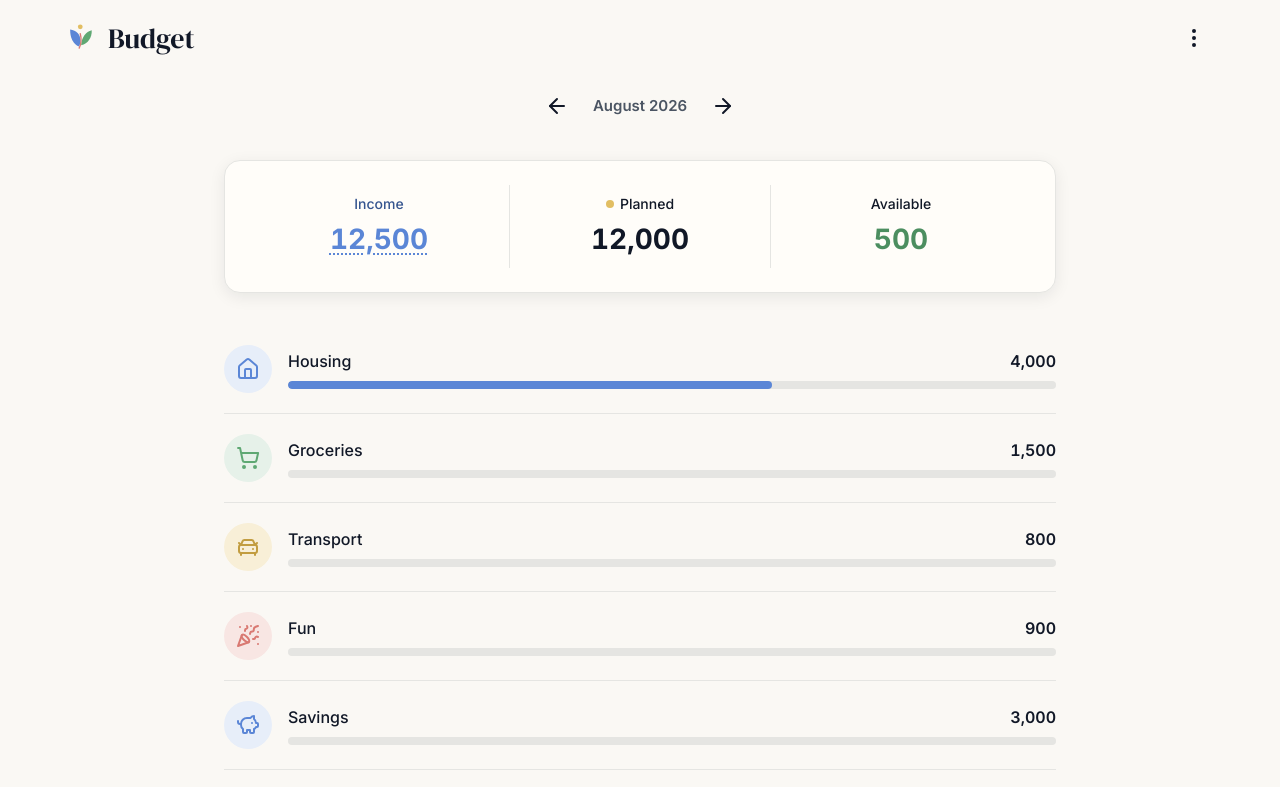
qa-budget-flow › QA-CC-52: invalid dialog input posts nothing, and Cancel closes the dialog without a change
The image size is (1280, 787).
Click the button named "Edit income, current value 12,500" at (379, 239), box [322, 214, 436, 264]
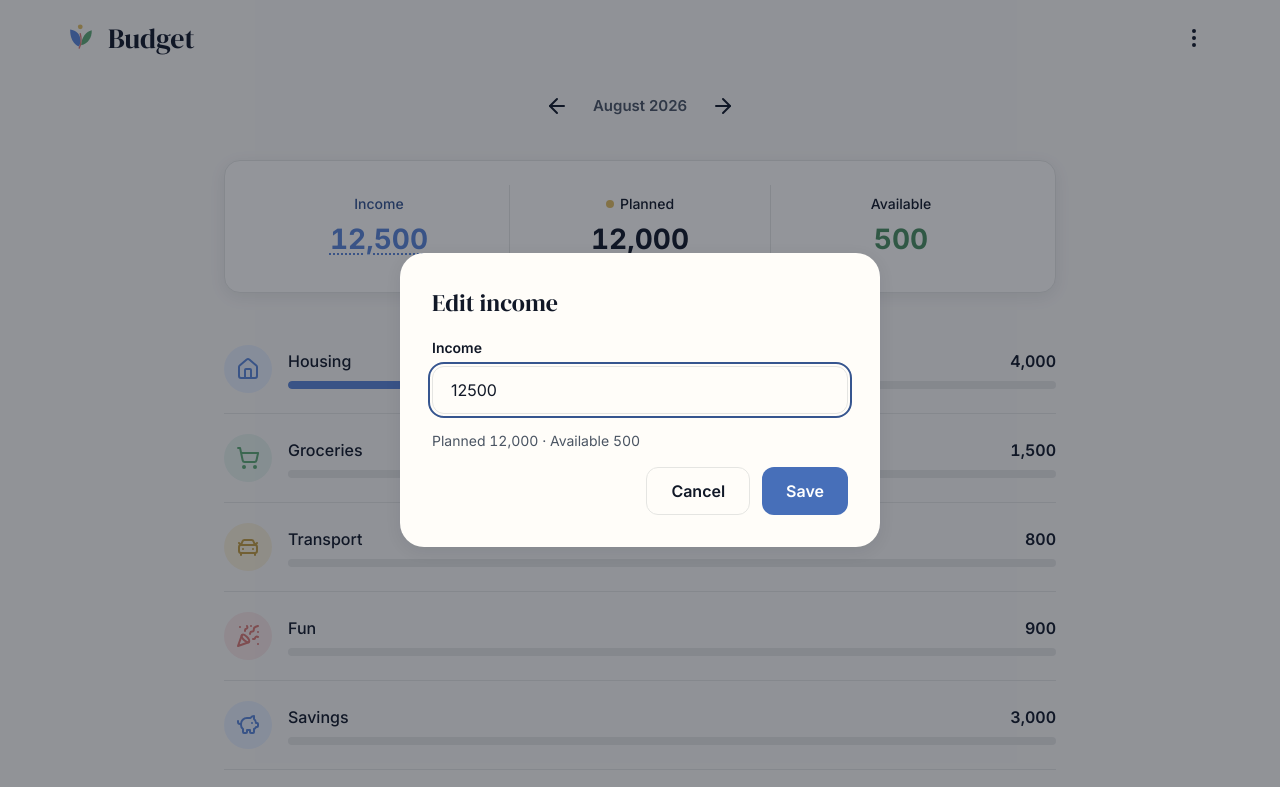
Replace the text in the field labelled "Income" with "invalid" at (640, 390), box [449, 377, 831, 403]
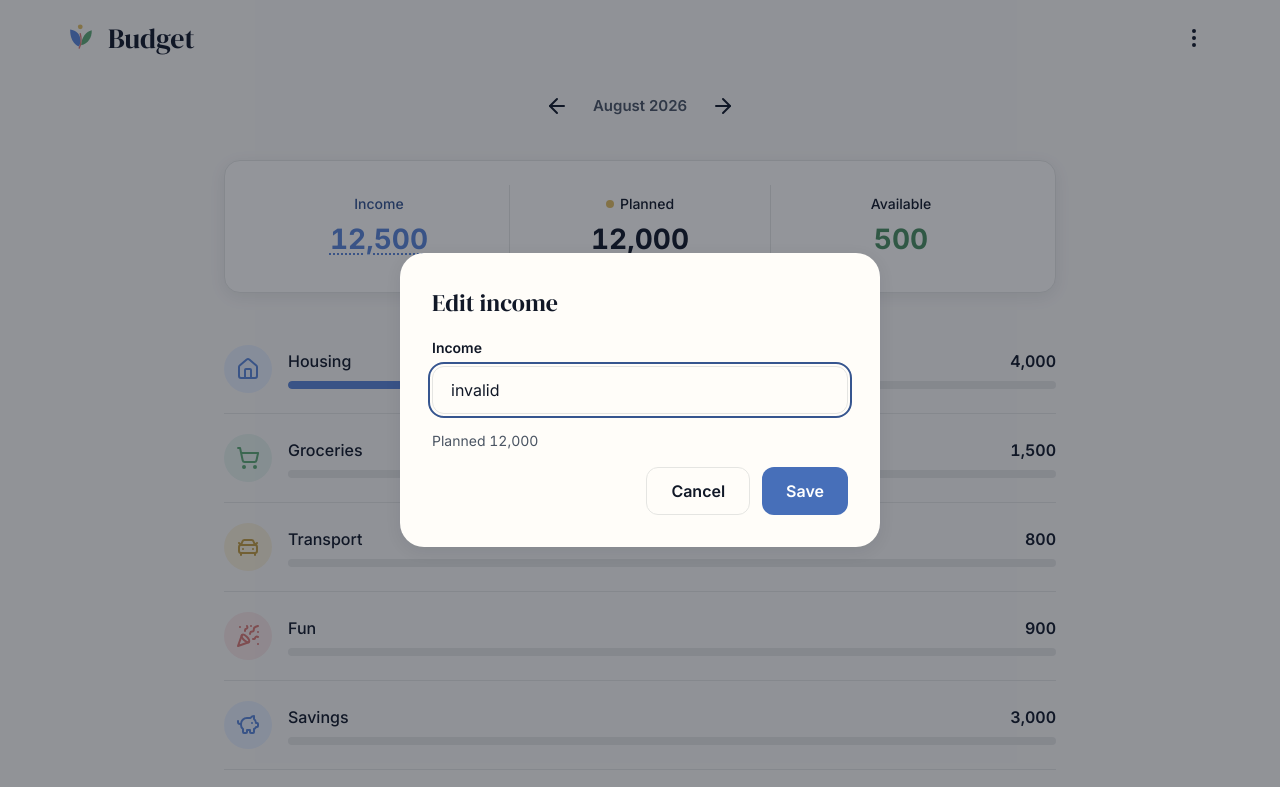
Click the button "Save" at (805, 491), box [762, 467, 848, 515]
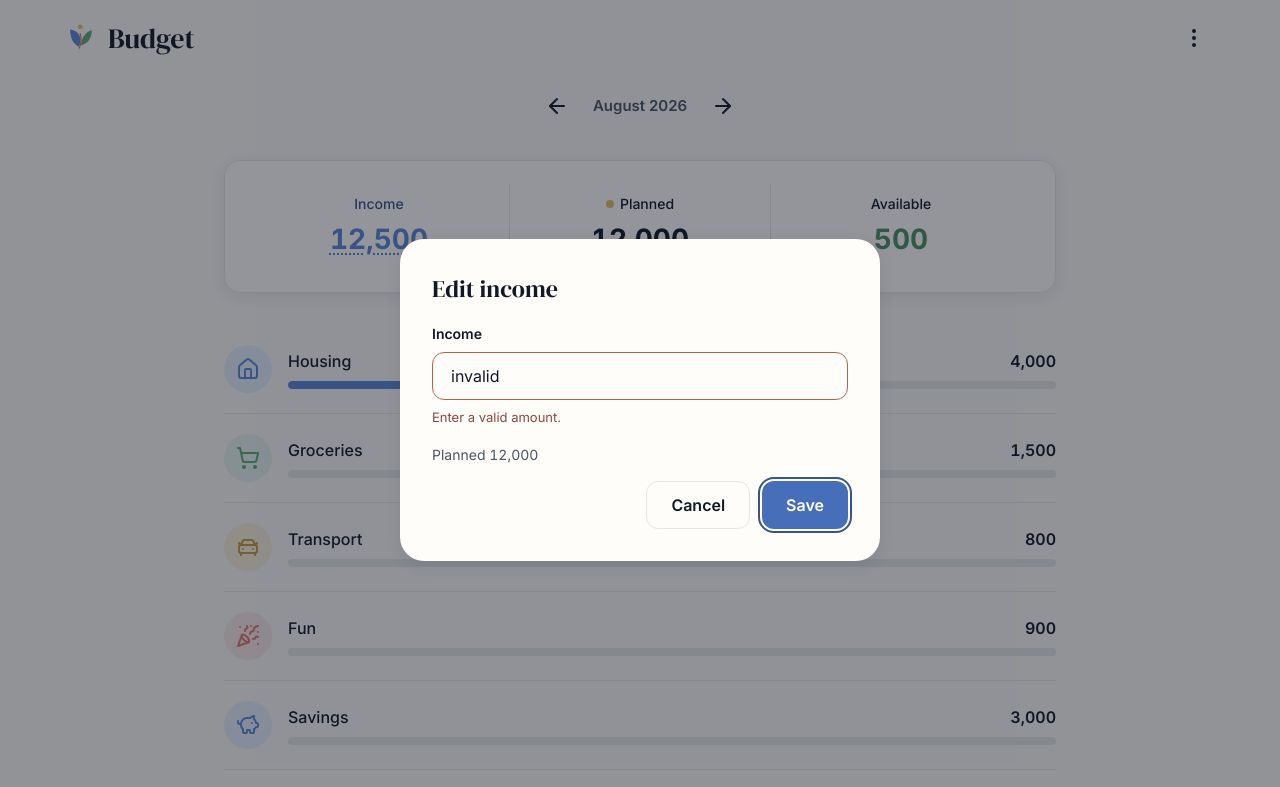
Now the text "Enter a valid amount." is shown, box [432, 409, 561, 425]
Click the button "Cancel" at (698, 505), box [646, 481, 750, 529]
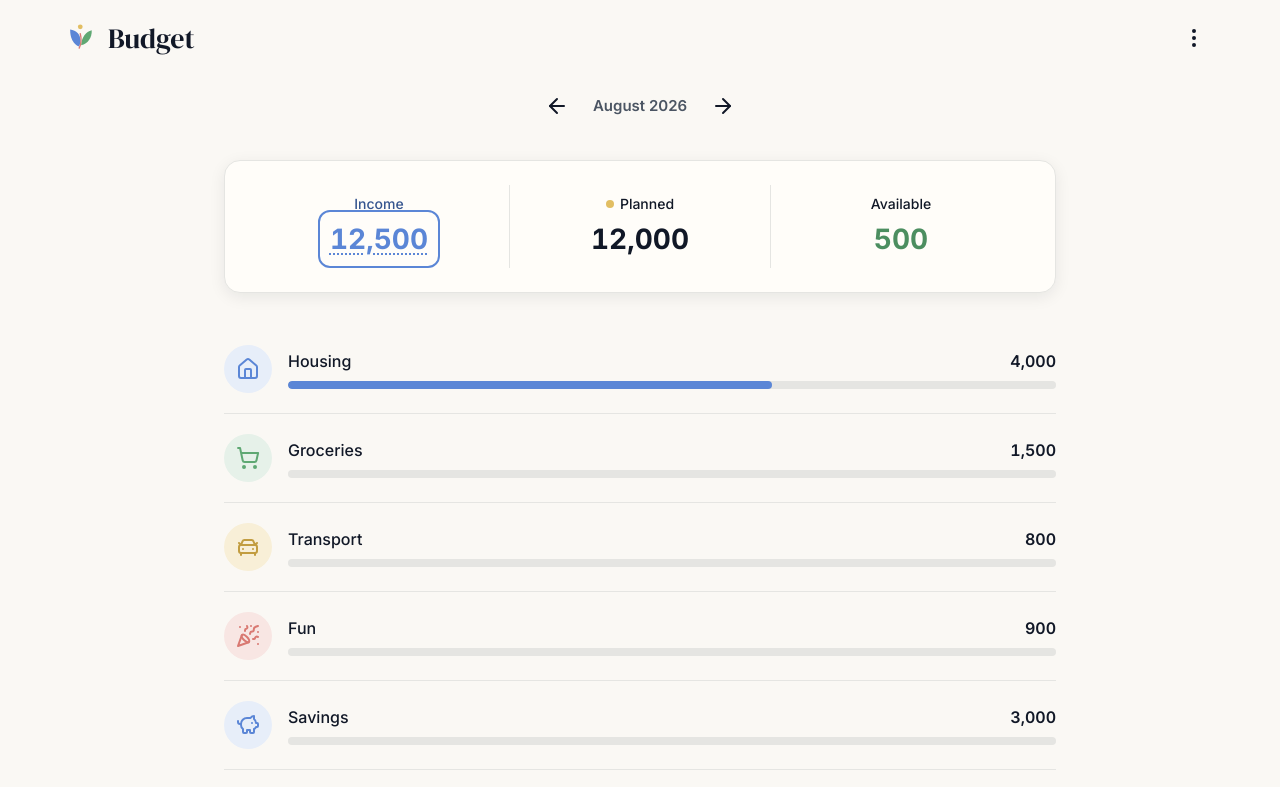
Expected: the button named "Edit income, current value 12,500" is shown, [322, 214, 436, 264]
Now the heading "Edit income" is gone
